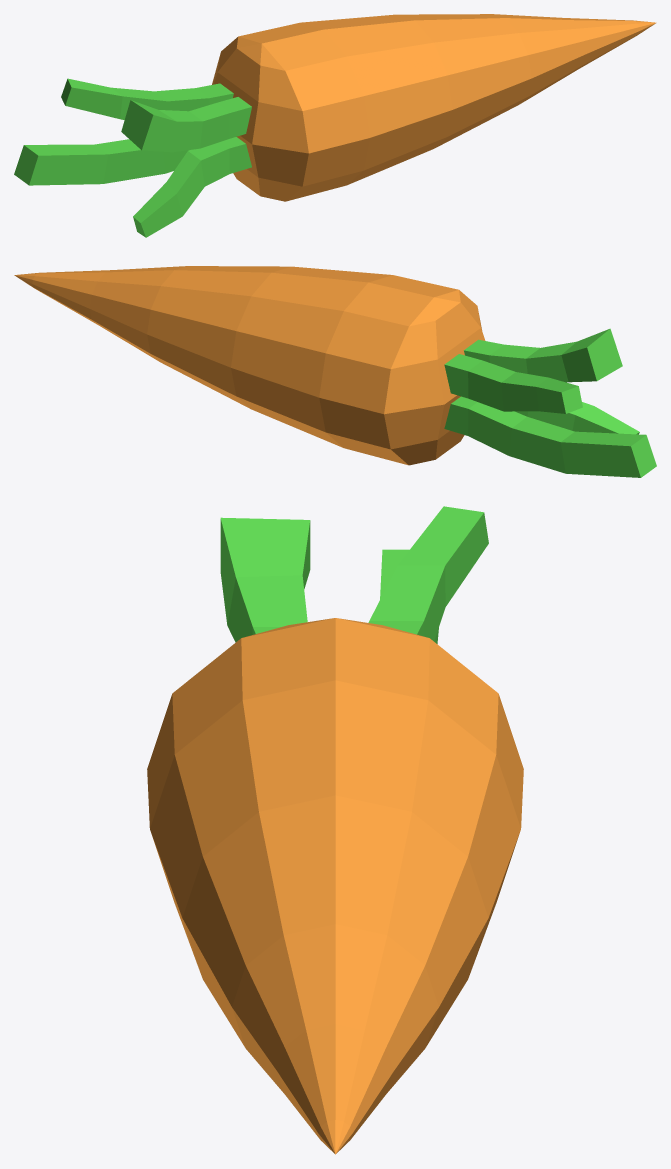
File: carrot.glb
3 views of the same model, one above another, from view 1: azimuth 30°, elevation 25°; view 2: azimuth 150°, elevation 25°; view 3: azimuth 270°, elevation 25° (orthographic). The views are drawn at different scales.
Parts seen in each view (by area): view 1: Sphere, Cube; view 2: Sphere, Cube; view 3: Sphere, Cube.
Boxes of the visible parts, left/top/right/bottom form: Sphere: left=212, top=14, right=656, bottom=201; Cube: left=14, top=78, right=251, bottom=237; Sphere: left=14, top=266, right=485, bottom=465; Cube: left=444, top=328, right=656, bottom=477; Sphere: left=147, top=618, right=523, bottom=1154; Cube: left=220, top=506, right=488, bottom=643.
Size of the model in its own units: 7.56 by 1.77 by 2.
